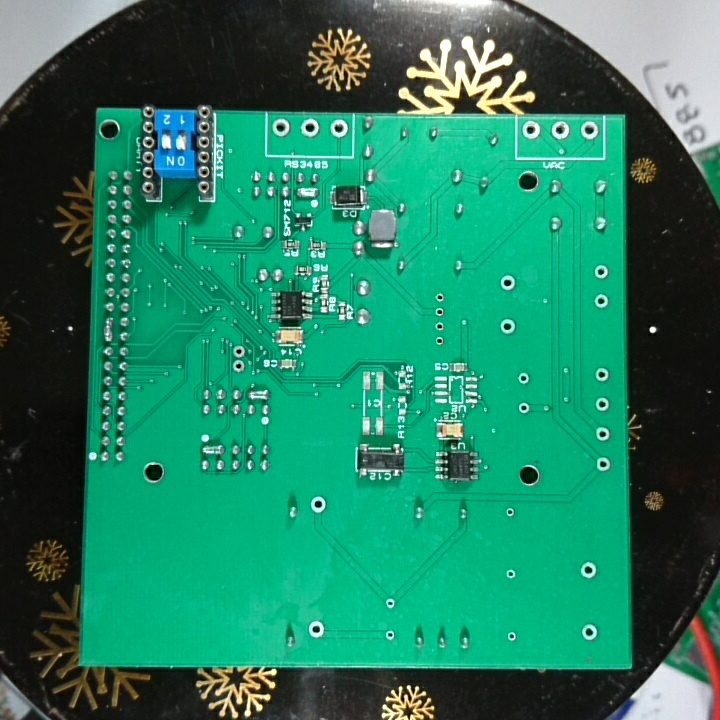F: (519, 118, 544, 143), (548, 120, 574, 142), (297, 117, 323, 139), (270, 116, 293, 140), (579, 621, 601, 644), (497, 272, 519, 294), (306, 618, 328, 640), (328, 117, 349, 140), (308, 493, 329, 516), (578, 120, 599, 142), (577, 560, 599, 581), (498, 316, 517, 337), (593, 395, 613, 414), (592, 291, 611, 311), (593, 365, 611, 386), (594, 455, 614, 473), (594, 425, 613, 443), (592, 262, 610, 280), (516, 369, 532, 389), (230, 342, 248, 359), (229, 358, 248, 374), (382, 595, 399, 612), (516, 400, 534, 416), (382, 626, 398, 644), (432, 319, 449, 334), (432, 334, 448, 349), (503, 566, 519, 581), (501, 504, 517, 519), (432, 304, 447, 319), (432, 290, 448, 304), (504, 629, 519, 643)
P: (100, 315, 116, 344), (294, 183, 322, 199), (199, 443, 227, 458), (247, 388, 271, 402)
